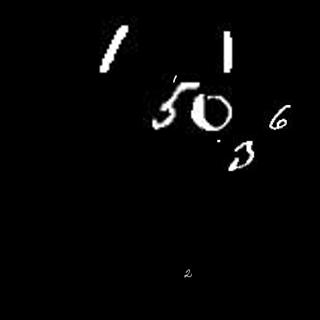dot: (215, 137, 223, 143)
five: (150, 79, 199, 131)
one: (97, 23, 129, 76), (219, 30, 234, 75), (171, 72, 178, 83)
six: (265, 104, 291, 131)
three: (227, 137, 258, 174)
two: (181, 266, 193, 281)
zero: (190, 90, 234, 133)
